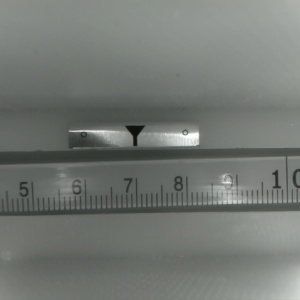0: (291, 169, 300, 189)
1: (272, 169, 280, 189)
5: (19, 182, 29, 197)
6: (70, 179, 81, 195)
7: (122, 177, 132, 193)
8: (173, 176, 182, 191)
9: (223, 174, 233, 188)
finger: (123, 125, 145, 147)
